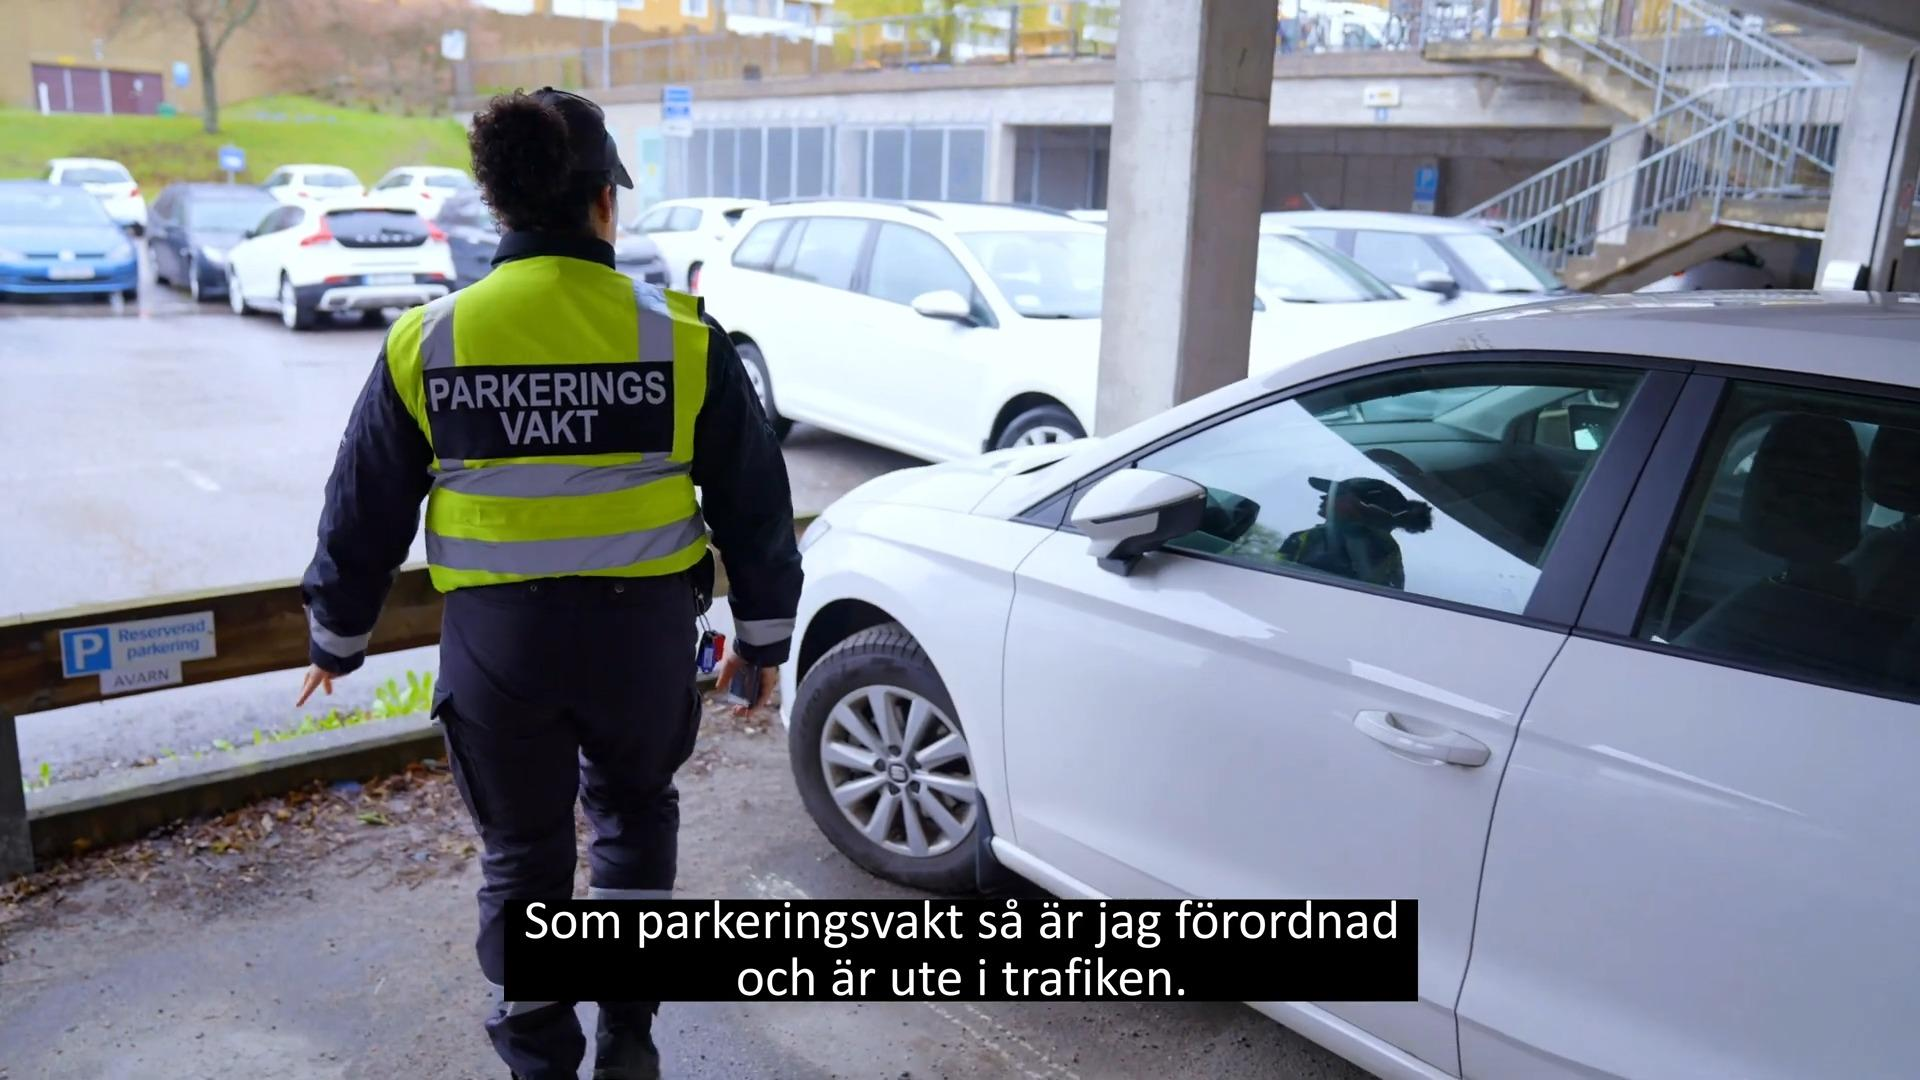parking-attendant: (301, 87, 802, 1079)
